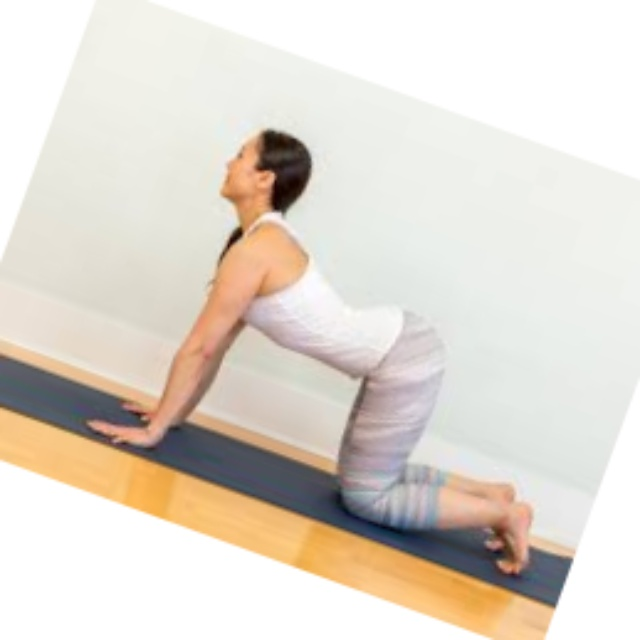Cow_Pose: (82, 127, 536, 575)
